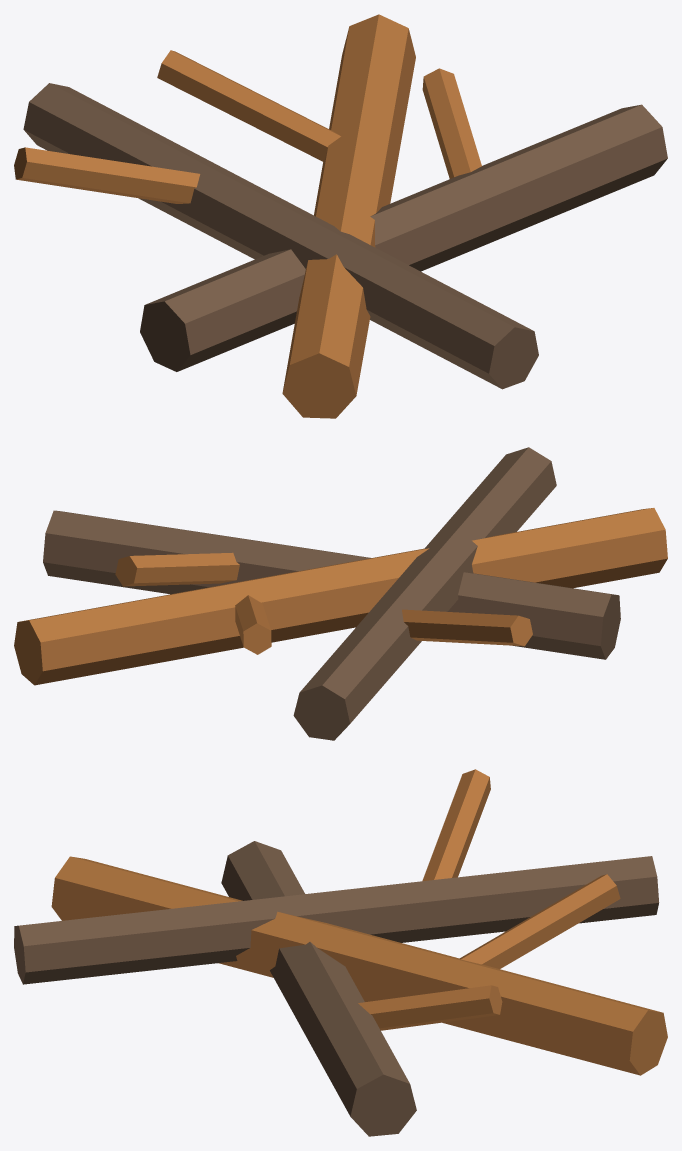
The model's file is prop_driftwood_a.glb.
3 views of the same model, one above another, from view 1: azimuth 30°, elevation 25°; view 2: azimuth 150°, elevation 25°; view 3: azimuth 270°, elevation 25° (orthographic). The views are drawn at different scales.
Visible parts, largest first — view 1: prop_driftwood_a_cluster_material_00, prop_driftwood_a_cluster_material_01; view 2: prop_driftwood_a_cluster_material_01, prop_driftwood_a_cluster_material_00; view 3: prop_driftwood_a_cluster_material_00, prop_driftwood_a_cluster_material_01.
Boxes of the visible parts, box(x1,y1,x2,y2) form: prop_driftwood_a_cluster_material_00: box(23, 83, 667, 389); prop_driftwood_a_cluster_material_01: box(14, 14, 481, 418); prop_driftwood_a_cluster_material_01: box(14, 508, 667, 685); prop_driftwood_a_cluster_material_00: box(43, 447, 620, 740); prop_driftwood_a_cluster_material_00: box(14, 841, 659, 1136); prop_driftwood_a_cluster_material_01: box(51, 769, 667, 1075).
Size of the model in its own units: 1.63 by 0.3617 by 1.73.
